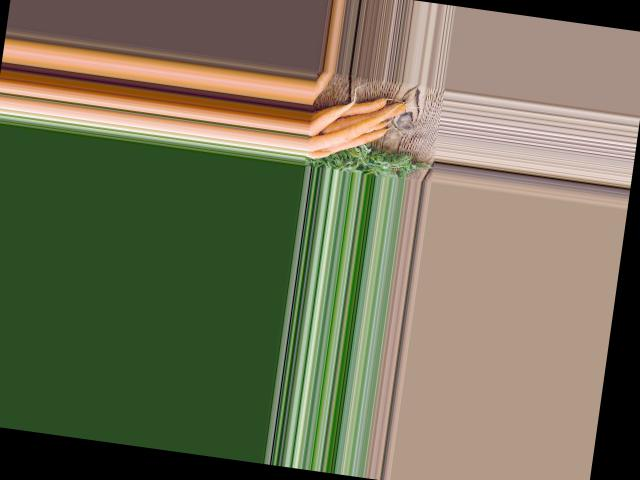carrot: (310, 96, 353, 139)
